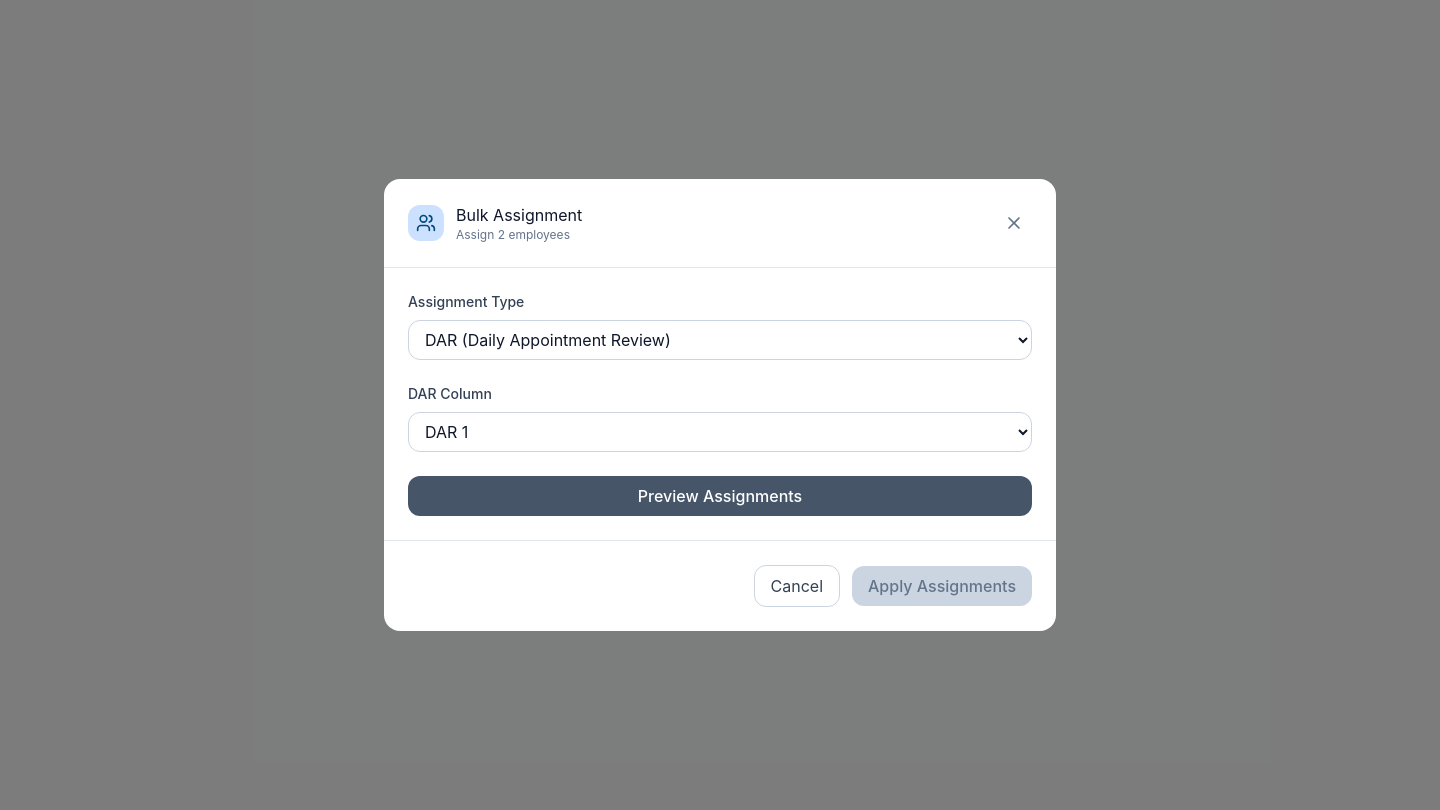
Test: BulkAssignmentModal › should show entity selection for non-DAR types
The width and height of the screenshot is (1440, 810).
Select "New Incoming Items" in the dropdown labelled "Assignment Type" at (720, 340), box top-left (408, 320), bottom-right (1032, 360)
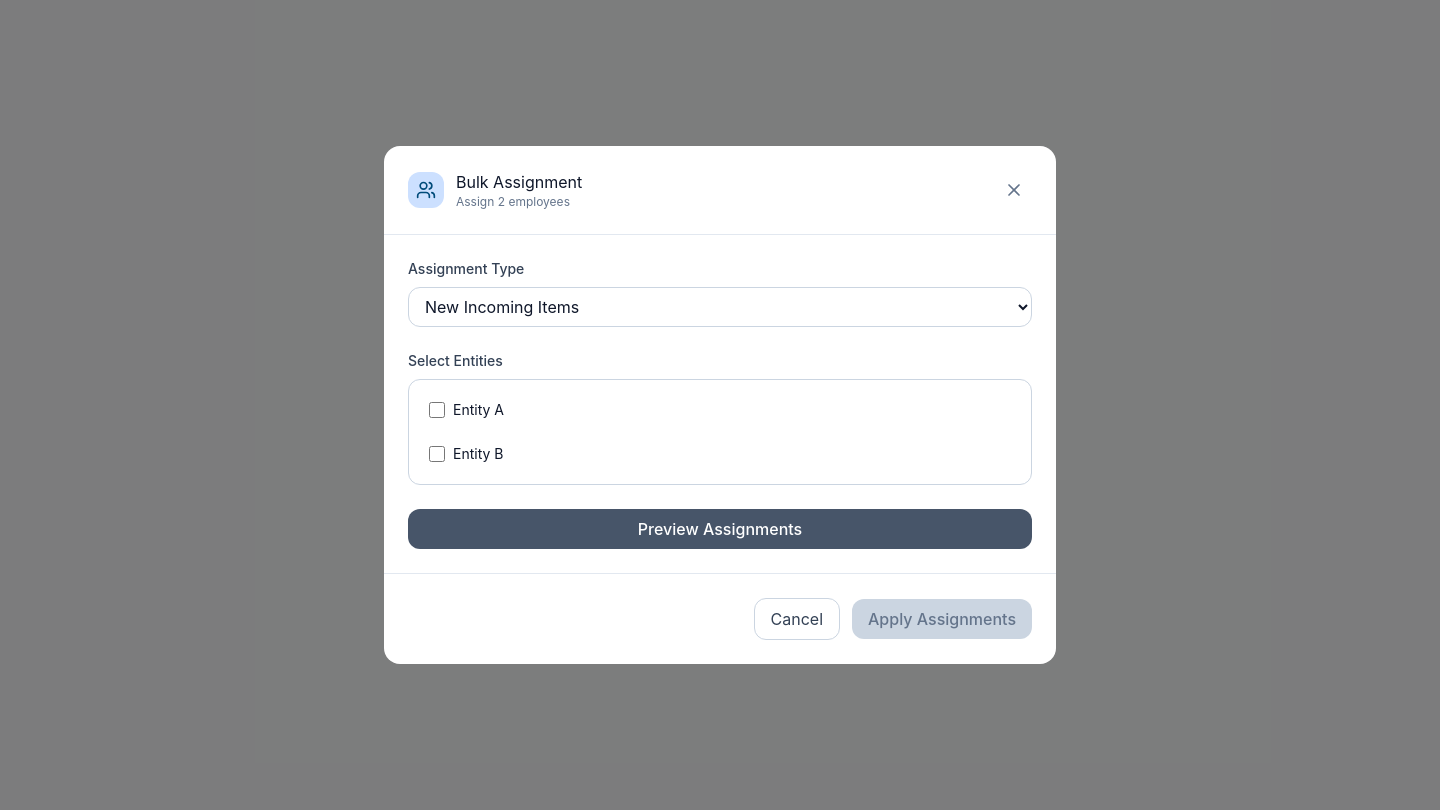
Expected: the text "Select Entities" is shown, top-left (408, 352), bottom-right (503, 369)
